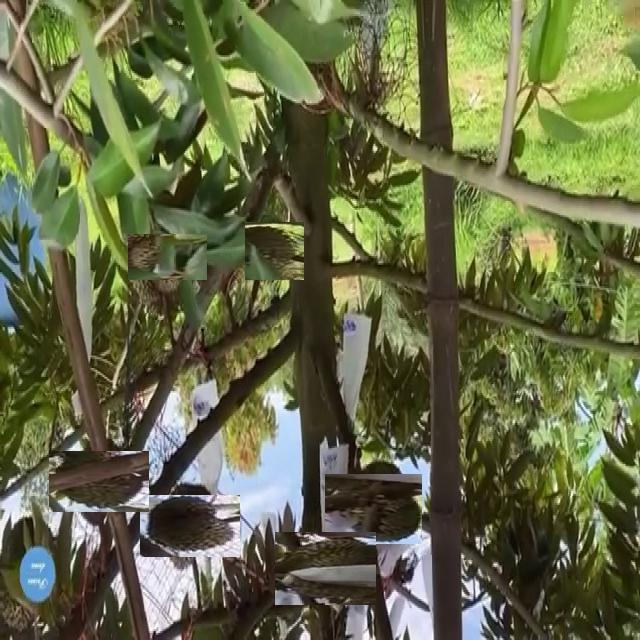durian: (282, 525, 369, 612), (332, 466, 416, 550), (180, 198, 245, 305), (149, 485, 230, 567), (59, 441, 140, 522), (230, 217, 299, 285), (137, 225, 199, 288)
